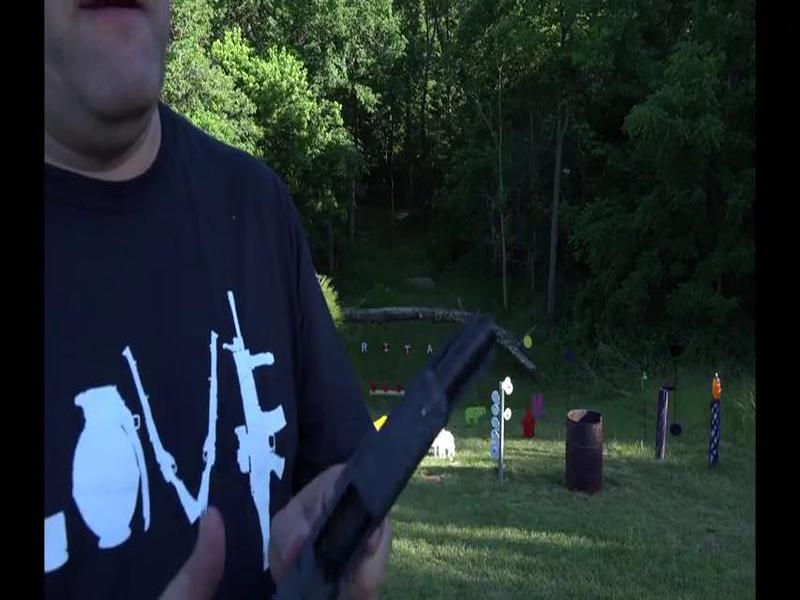Pistola: (303, 292, 508, 590)
